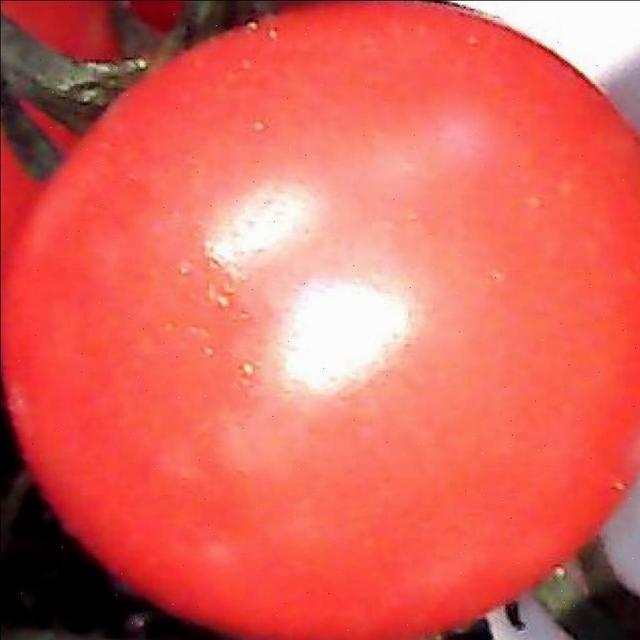Healthy Fruit: (20, 11, 420, 423)
